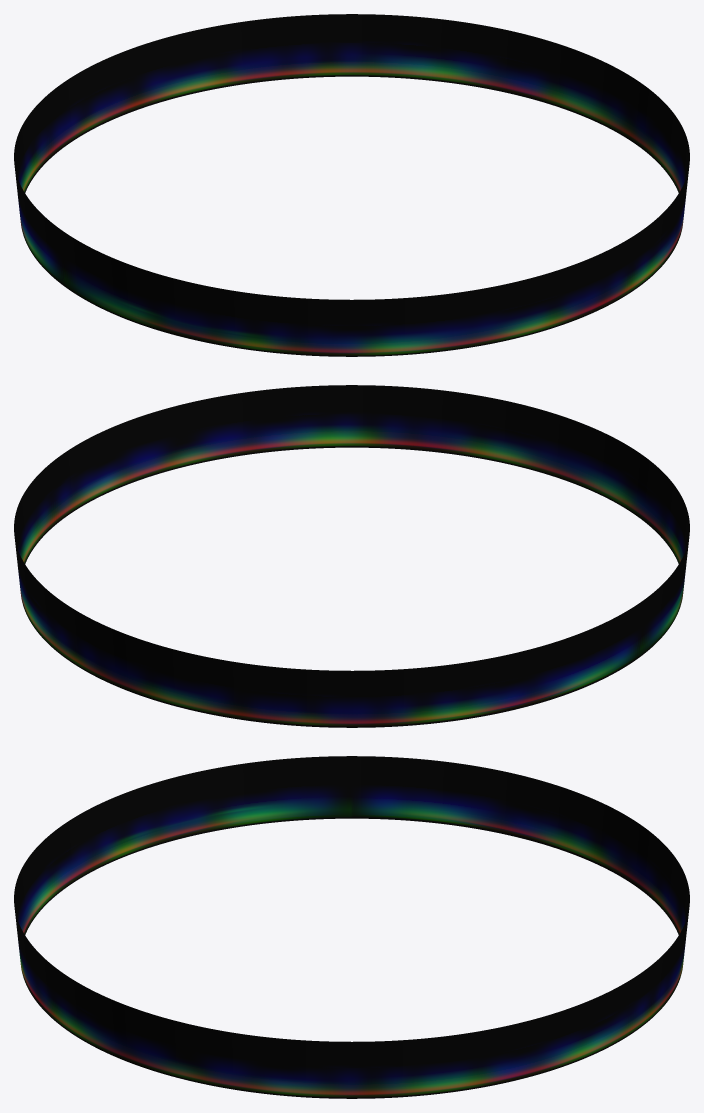
File: AuroraRouded.fbx
The picture shows the model from 3 angles, top to bottom: view 1: azimuth 30°, elevation 25°; view 2: azimuth 150°, elevation 25°; view 3: azimuth 270°, elevation 25°; orthographic projection.
Visible parts, largest first — view 1: AuroraRounded; view 2: AuroraRounded; view 3: AuroraRounded.
Part boxes in pixels (bbox=[...]): AuroraRounded: bbox=[14, 14, 689, 356]; AuroraRounded: bbox=[14, 385, 689, 727]; AuroraRounded: bbox=[14, 756, 689, 1098].
Bounding box in the file's own units: 1000 × 97.55 × 1000.
